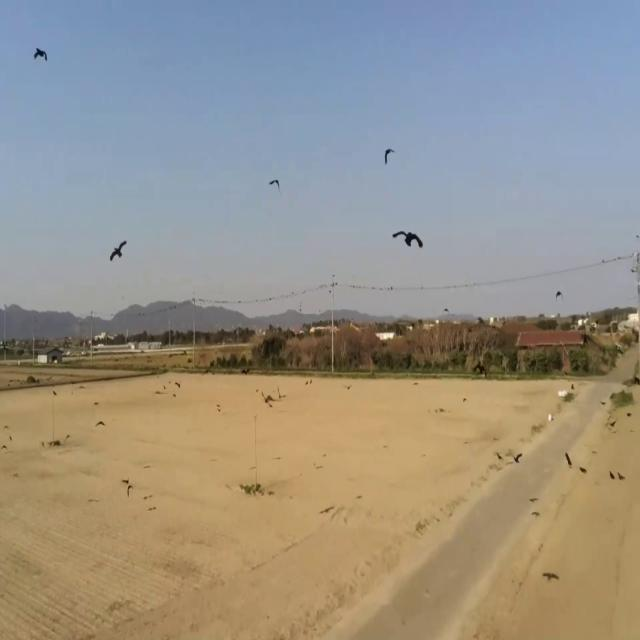bird: (393, 221, 423, 257), (110, 233, 127, 267), (33, 41, 48, 69), (269, 171, 281, 198), (384, 142, 393, 170), (512, 446, 522, 469), (564, 446, 572, 472), (555, 286, 563, 304), (332, 277, 337, 290)
